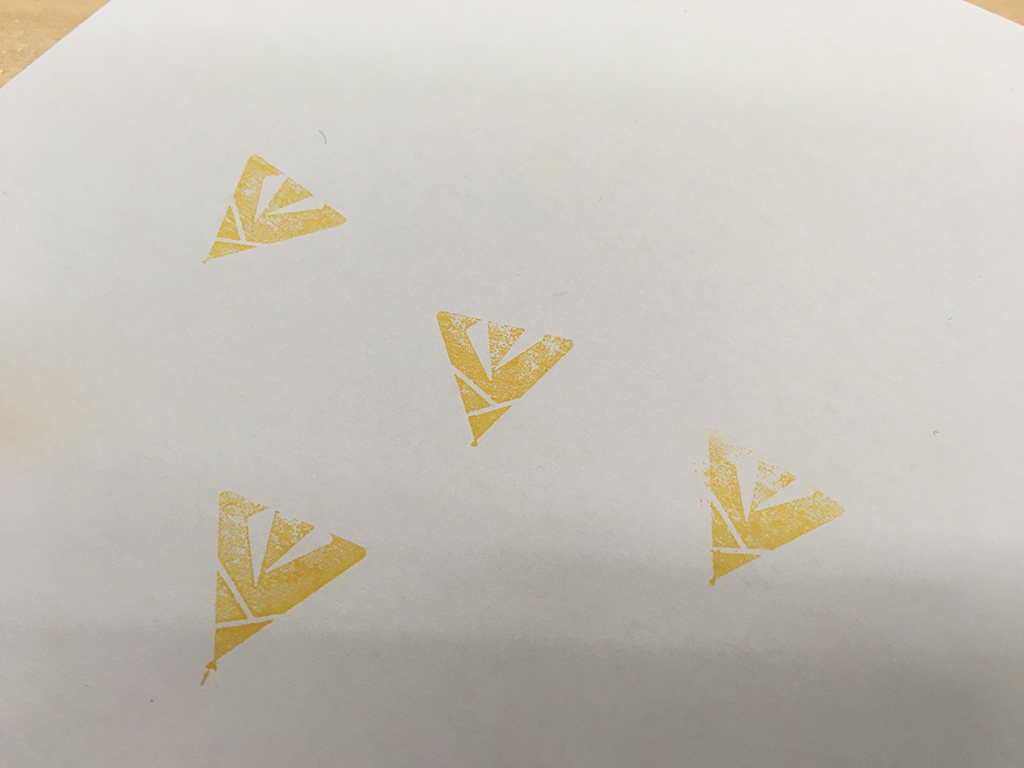tent: (190, 485, 371, 697), (691, 420, 849, 602), (432, 307, 580, 459), (194, 151, 356, 276)
